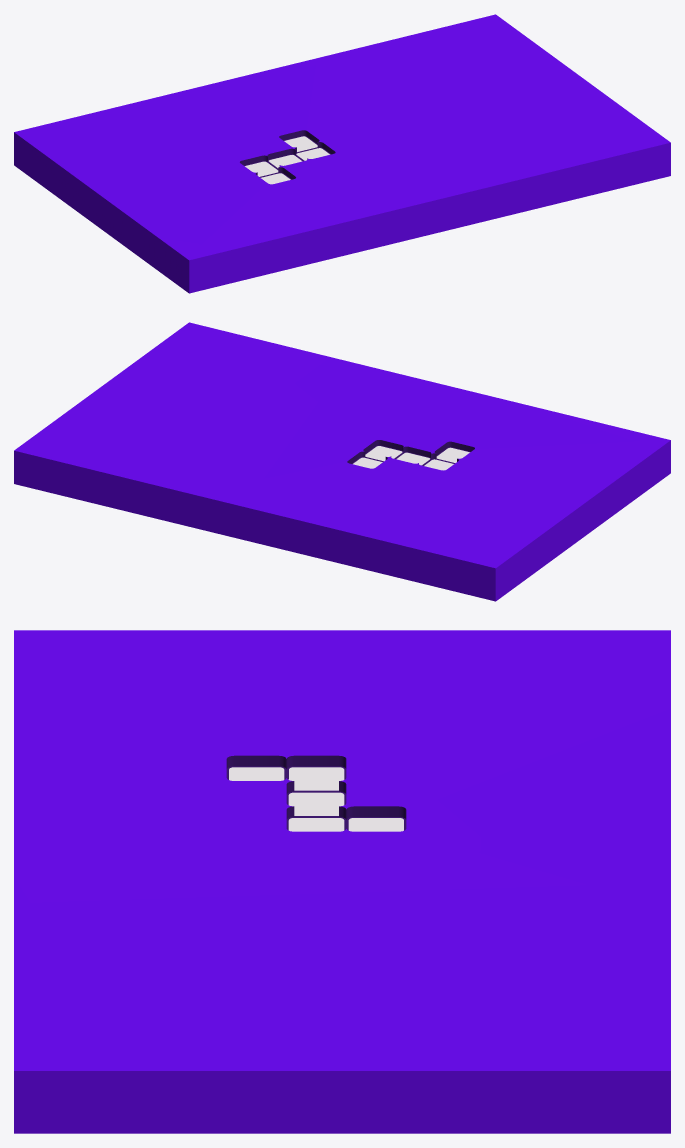
Rendered from level5.fbx.
3 renders of one model, top to bottom at view 1: azimuth 30°, elevation 25°; view 2: azimuth 150°, elevation 25°; view 3: azimuth 270°, elevation 25°, orthographic. The views are drawn at different scales.
Parts seen in each view (by area): view 1: Ground.009; view 2: Ground.009; view 3: Ground.009.
Part boxes in pixels (bbox=[...]): Ground.009: bbox=[14, 14, 670, 293]; Ground.009: bbox=[14, 322, 670, 601]; Ground.009: bbox=[14, 630, 670, 1133].
Size of the model in its own units: 7326 by 487 by 4613.
